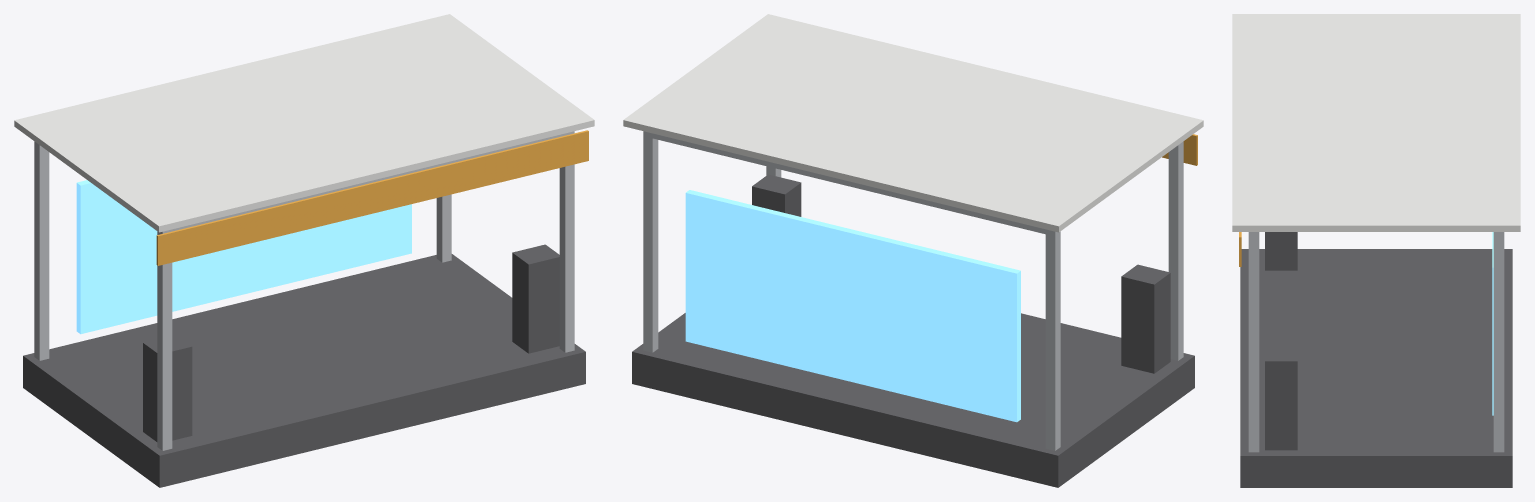
Rendered from festival_stage.glb.
3 views of the same model, side by side, from view 1: azimuth 30°, elevation 25°; view 2: azimuth 150°, elevation 25°; view 3: azimuth 270°, elevation 25° (orthographic).
Parts seen in each view (by area): view 1: festival_stage; view 2: festival_stage; view 3: festival_stage.
Part boxes in pixels (box(x1,y1,x2,y2)): festival_stage: box(14, 14, 594, 487); festival_stage: box(623, 14, 1203, 487); festival_stage: box(1232, 14, 1520, 487).
Bounding box in the file's own units: 18.4 × 10.73 × 10.6.
